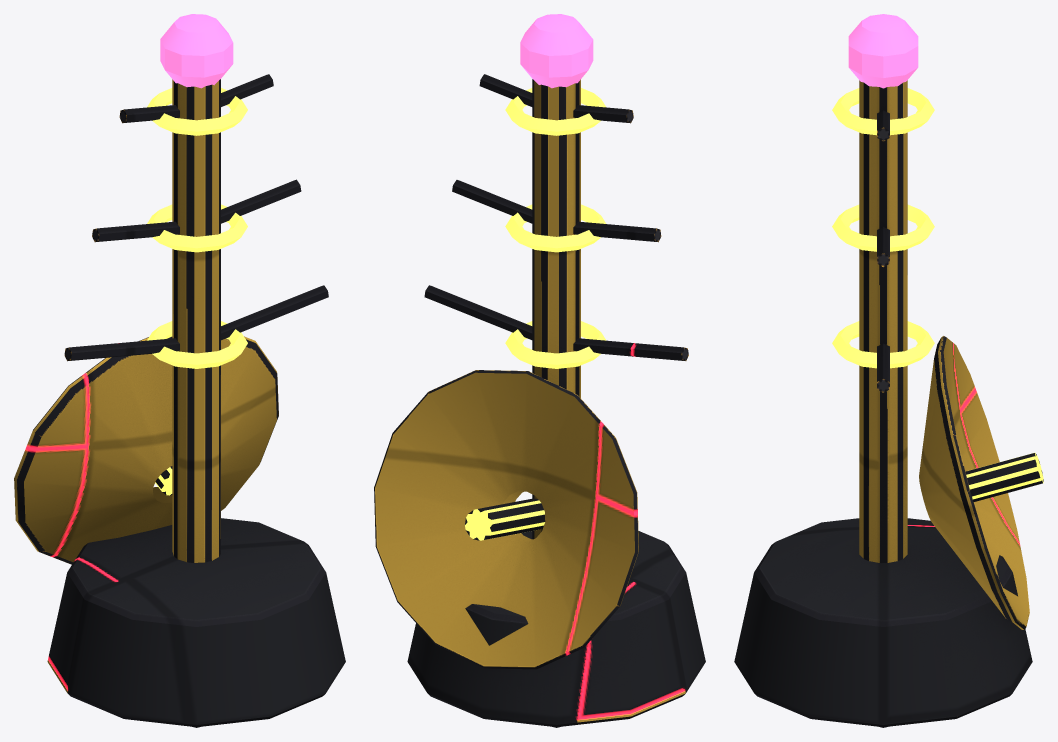
The model's file is contramedidas_t4.fbx.
The picture shows the model from 3 angles, left to right: view 1: azimuth 30°, elevation 25°; view 2: azimuth 150°, elevation 25°; view 3: azimuth 270°, elevation 25°; orthographic projection.
Parts seen in each view (by area): view 1: contramedidas_t4, contramedidas_t4_neon, contramedidas_t4_neon2; view 2: contramedidas_t4, contramedidas_t4_neon, contramedidas_t4_neon2; view 3: contramedidas_t4, contramedidas_t4_neon, contramedidas_t4_neon2.
Boxes of the visible parts, x1,y1,x2,y2 form: contramedidas_t4: (14, 74, 345, 727); contramedidas_t4_neon: (147, 88, 247, 495); contramedidas_t4_neon2: (160, 14, 233, 88); contramedidas_t4: (374, 74, 705, 727); contramedidas_t4_neon: (465, 88, 606, 540); contramedidas_t4_neon2: (520, 14, 593, 88); contramedidas_t4: (734, 80, 1043, 727); contramedidas_t4_neon: (832, 88, 1043, 499); contramedidas_t4_neon2: (848, 14, 918, 88).
Bounding box in the file's own units: 1.43 × 3.53 × 1.44.
